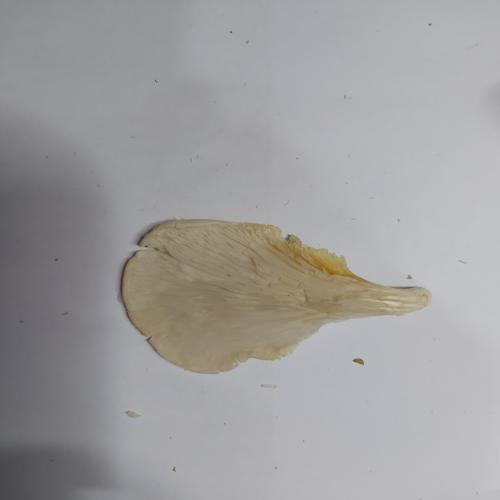Oyster Mushroom: (119, 217, 432, 375)
